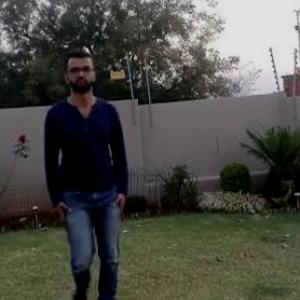follow: (48, 58, 128, 299)
